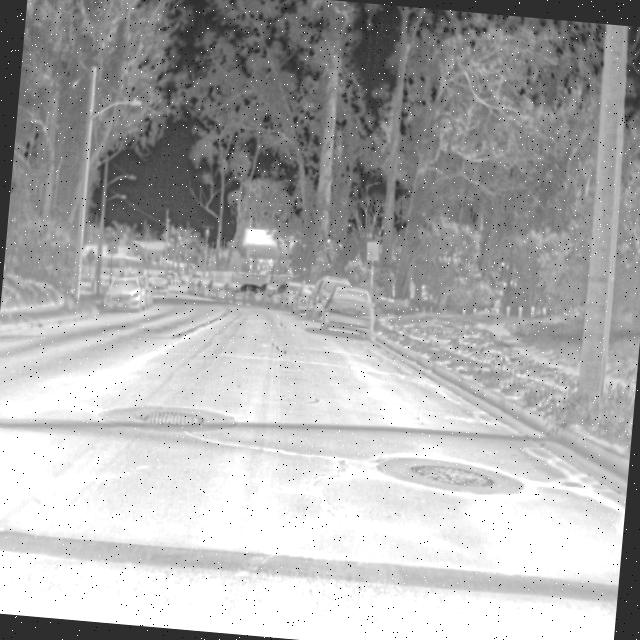Vehicle: (316, 280, 379, 341), (100, 272, 150, 316)
